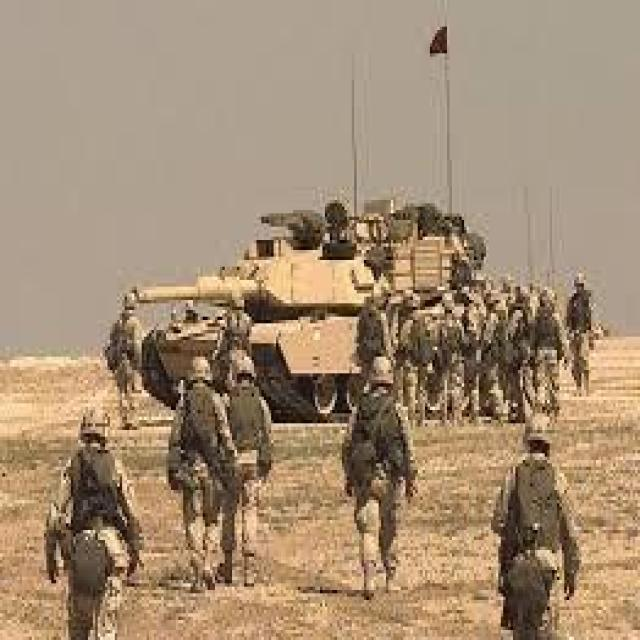Tanks: (21, 86, 546, 466)
